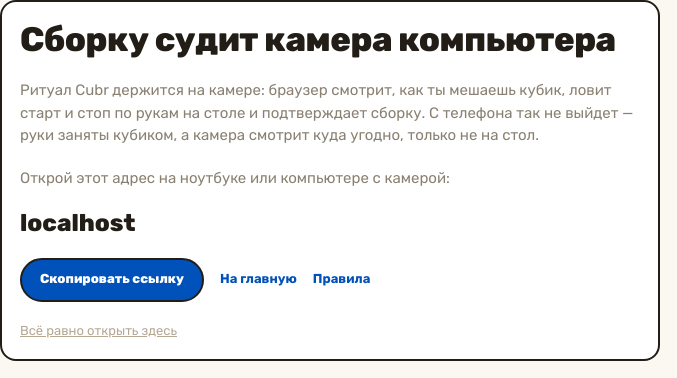
Test: DesktopOnlyGate › копирует адрес сайта в буфер
Click the button "Скопировать ссылку" at (112, 280), box 20,258 -> 204,302
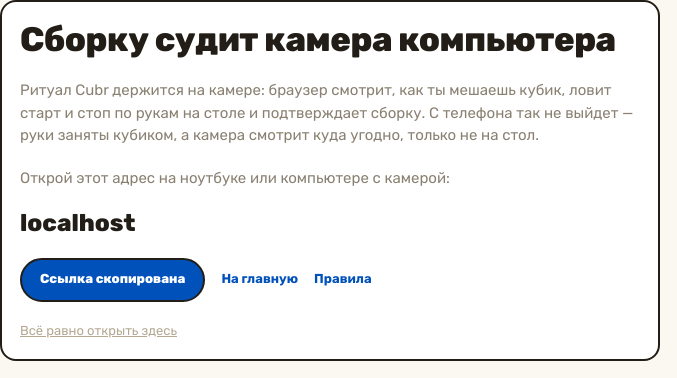
Expected: the button "Ссылка скопирована" is shown, 20,258 -> 205,302
